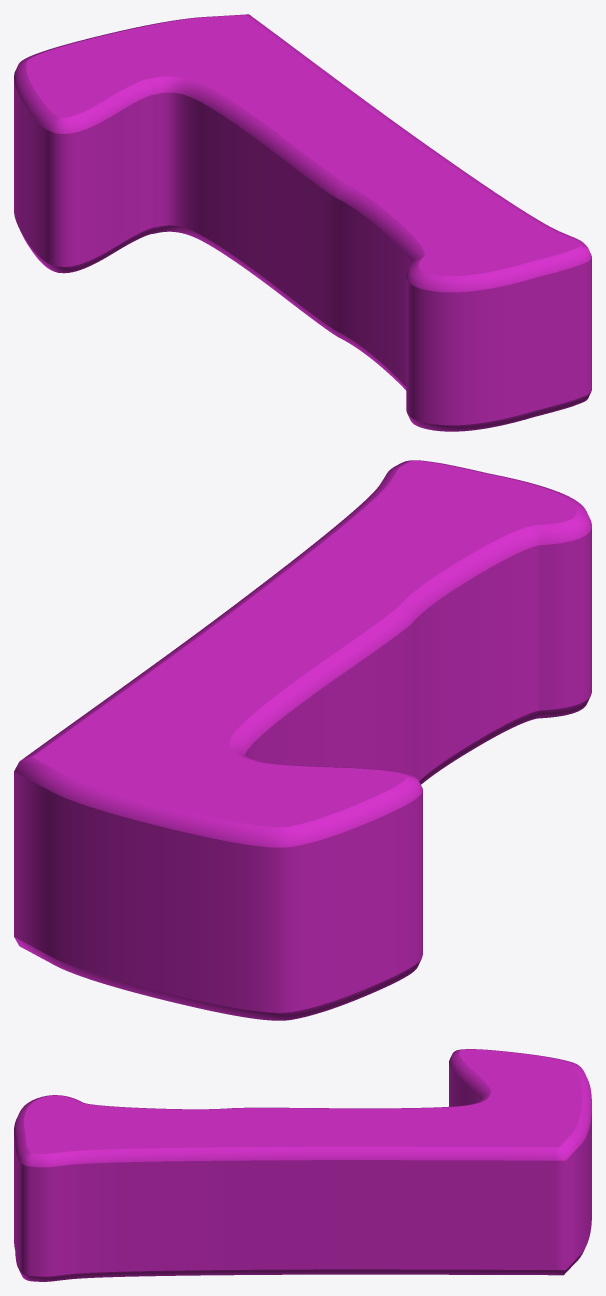
Rendered from Bubble_Letter_l.fbx.
3 views of the same model, one above another, from view 1: azimuth 30°, elevation 25°; view 2: azimuth 150°, elevation 25°; view 3: azimuth 270°, elevation 25° (orthographic). The views are drawn at different scales.
Visible parts, largest first — view 1: BubbleLetter_l; view 2: BubbleLetter_l; view 3: BubbleLetter_l.
Boxes of the visible parts, box(x1,y1,x2,y2) form: BubbleLetter_l: box(14, 14, 591, 431); BubbleLetter_l: box(14, 460, 591, 1020); BubbleLetter_l: box(14, 1049, 591, 1281).
Size of the model in its own units: 0.2664 by 0.14 by 0.5749.
